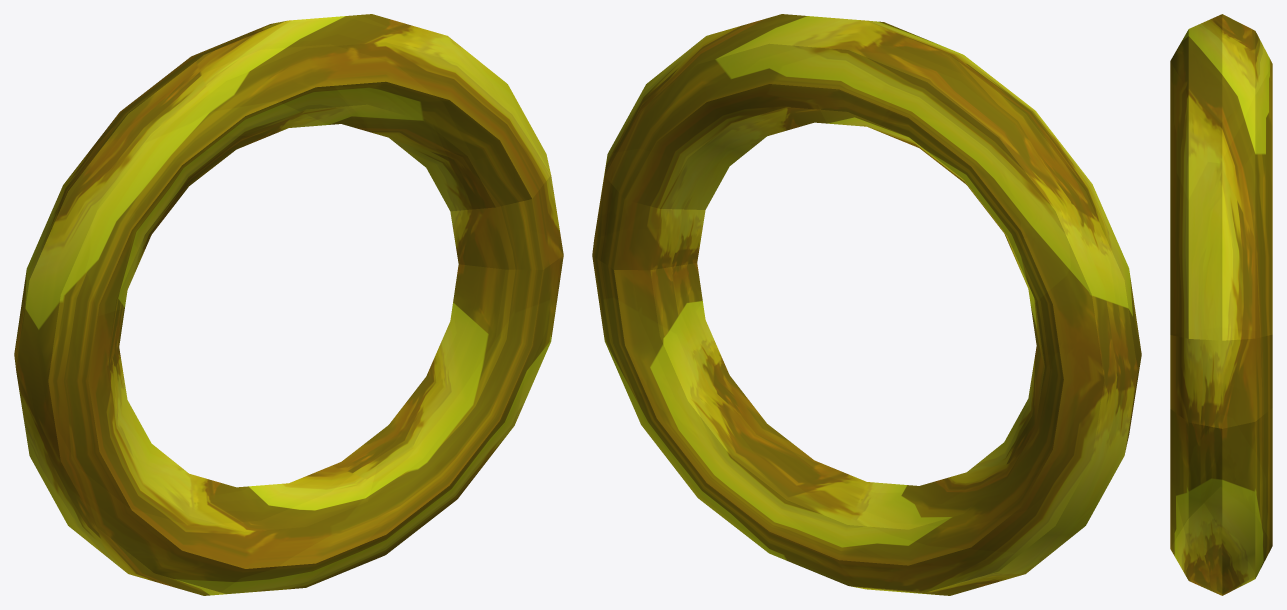
The model's file is gold_ring.glb.
3 views of the same model, side by side, from view 1: azimuth 30°, elevation 25°; view 2: azimuth 150°, elevation 25°; view 3: azimuth 270°, elevation 25° (orthographic). The views are drawn at different scales.
Parts seen in each view (by area): view 1: Object_2; view 2: Object_2; view 3: Object_2.
Boxes of the visible parts, box(x1,y1,x2,y2) form: Object_2: box(14, 14, 563, 595); Object_2: box(592, 14, 1141, 595); Object_2: box(1170, 14, 1272, 595).
Bounding box in the file's own units: 4.87 × 4.87 × 0.8526.
1 material, 1 textured.
